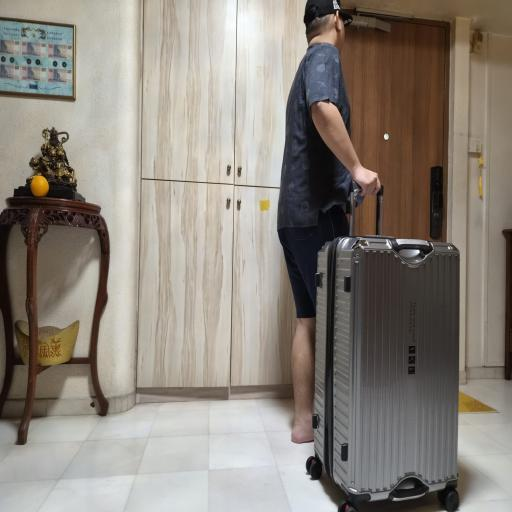person_right: (270, 4, 464, 512)
